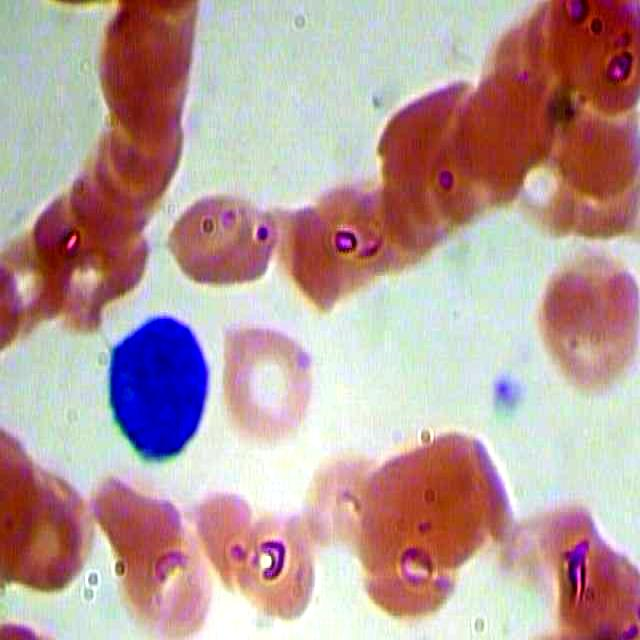RBC: (535, 245, 640, 403), (158, 181, 284, 287), (216, 324, 321, 444), (1, 473, 94, 598), (453, 66, 556, 175), (309, 180, 412, 288), (221, 511, 324, 618), (362, 520, 460, 625), (543, 534, 640, 640), (117, 530, 214, 634), (102, 1, 199, 104)
WBC: (98, 313, 211, 468)
